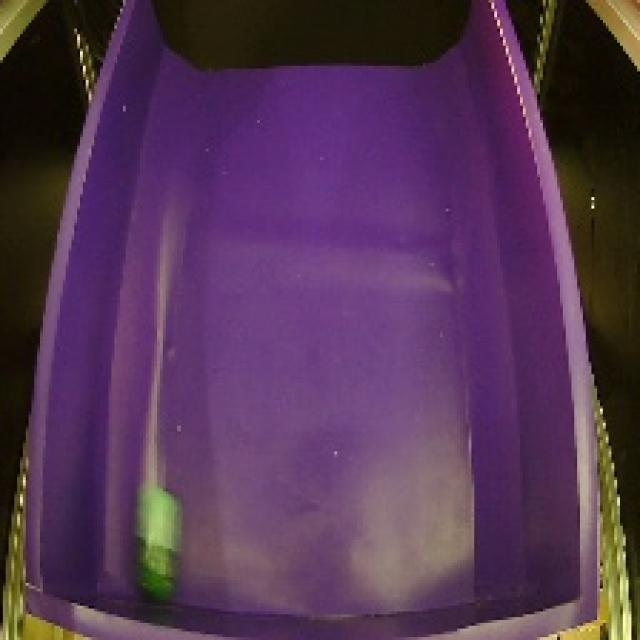small: (128, 471, 189, 609)
